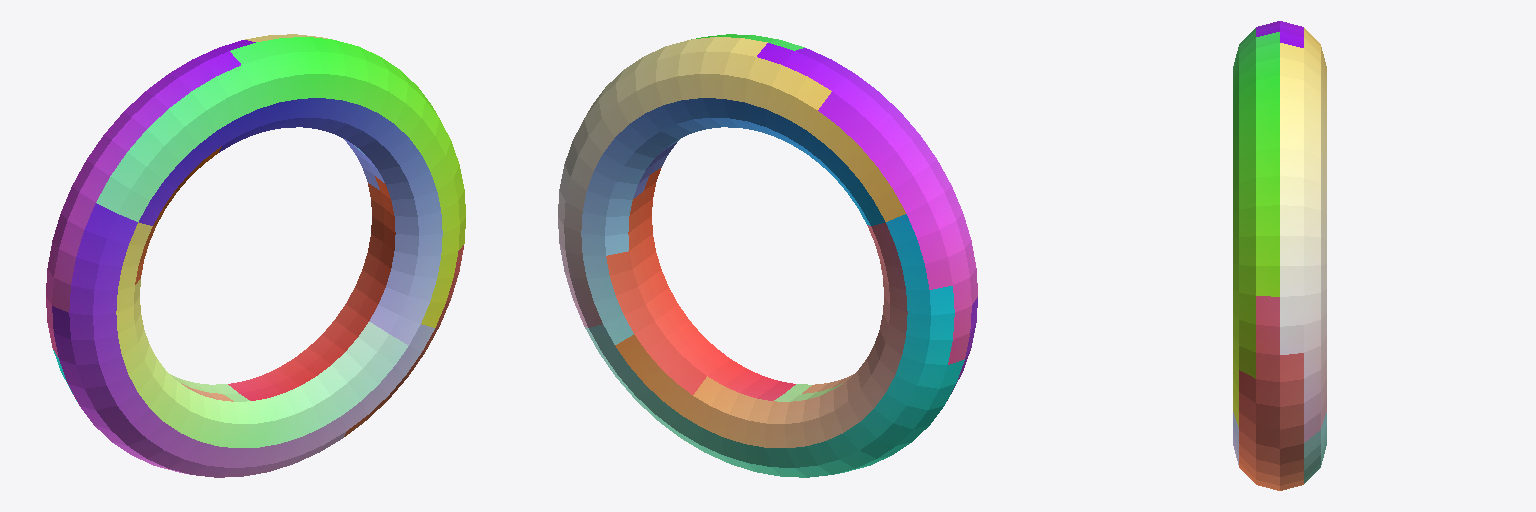
3 renders of one model, left to right at view 1: azimuth 30°, elevation 25°; view 2: azimuth 150°, elevation 25°; view 3: azimuth 270°, elevation 25°, orthographic.
Visible parts, largest first — view 1: Torus; view 2: Torus; view 3: Torus.
Part boxes in pixels (x1,y1,x2,y2): Torus: (46,34,465,477); Torus: (558,34,977,477); Torus: (1233,21,1326,490).
Size of the model in its own units: 7.5 by 7.5 by 1.5.
Materials: 1 (1 with a texture image).